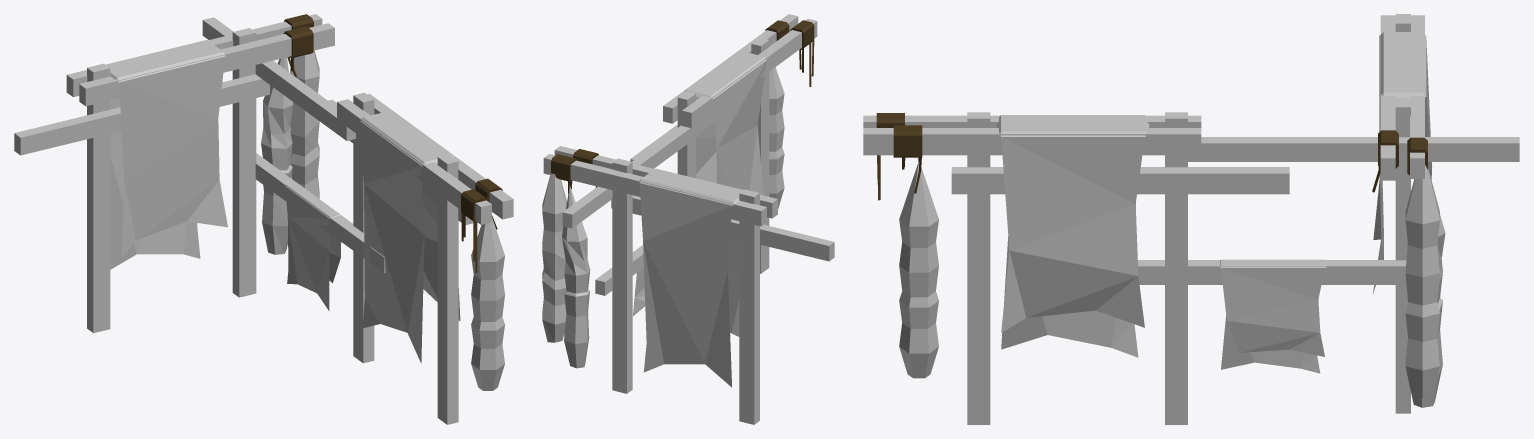
Rendered from NW_HARBOUR_FISHINGNET_01.OBJ.
3 views of the same model, side by side, from view 1: azimuth 30°, elevation 25°; view 2: azimuth 150°, elevation 25°; view 3: azimuth 270°, elevation 25° (orthographic). The views are drawn at different scales.
Parts seen in each view (by area): view 1: NW_HARBOUR_FISHINGNET_01; view 2: NW_HARBOUR_FISHINGNET_01; view 3: NW_HARBOUR_FISHINGNET_01.
Part boxes in pixels (box(x1,y1,x2,y2)): NW_HARBOUR_FISHINGNET_01: box(14, 14, 513, 424); NW_HARBOUR_FISHINGNET_01: box(542, 14, 834, 424); NW_HARBOUR_FISHINGNET_01: box(863, 14, 1519, 424).
Bounding box in the file's own units: 5.76 × 4.52 × 8.78.
